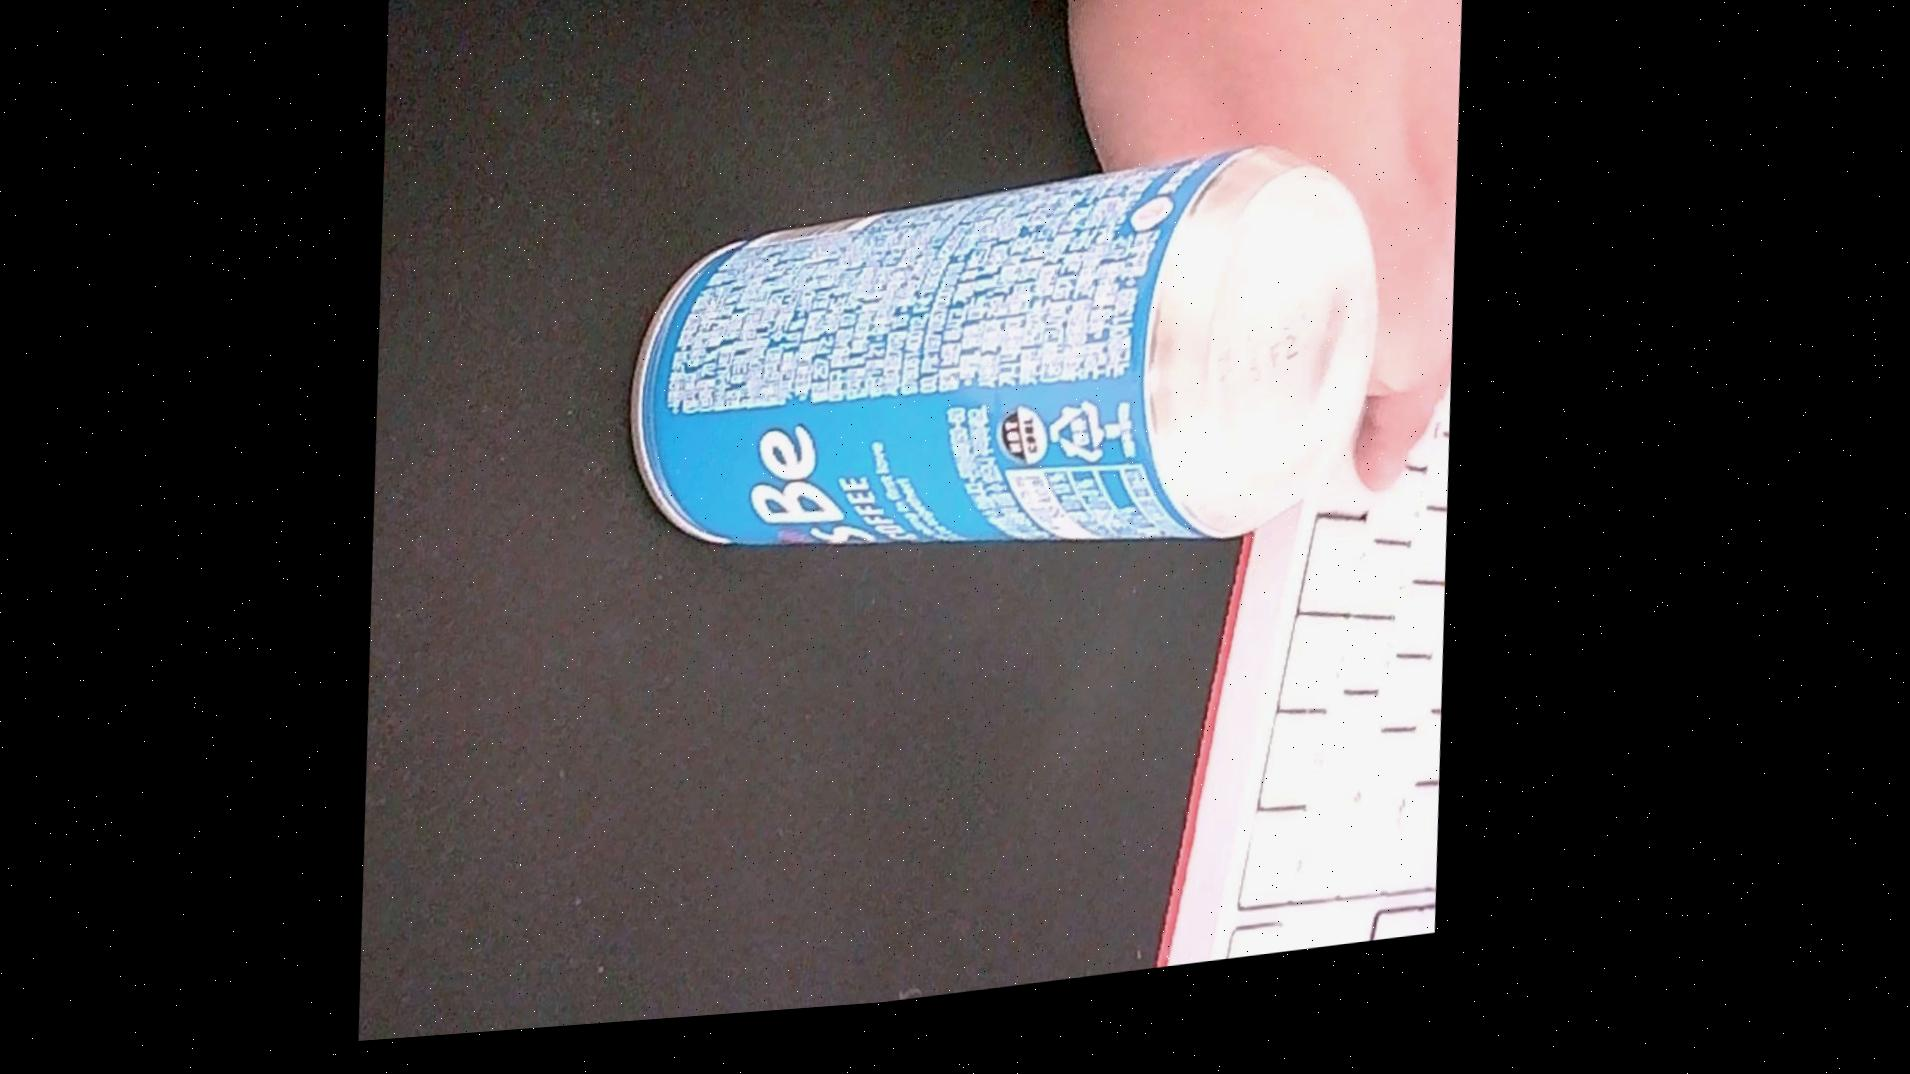letsbe: (615, 153, 1409, 628)
